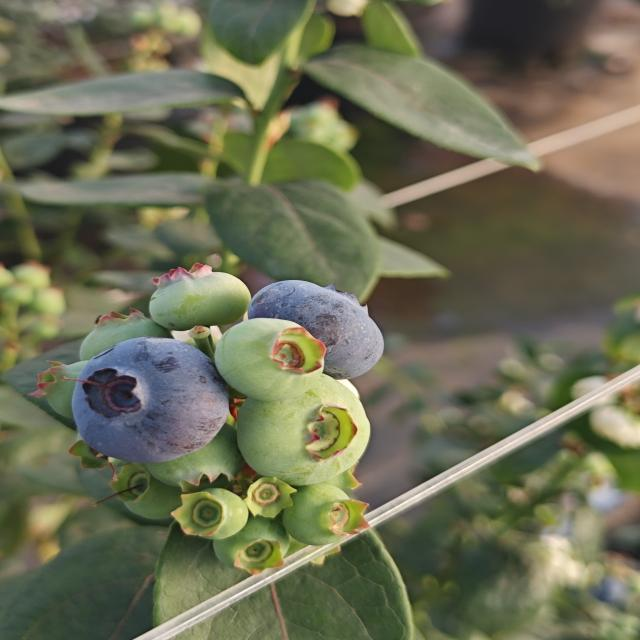ripe: (68, 335, 232, 466), (245, 278, 386, 381)
